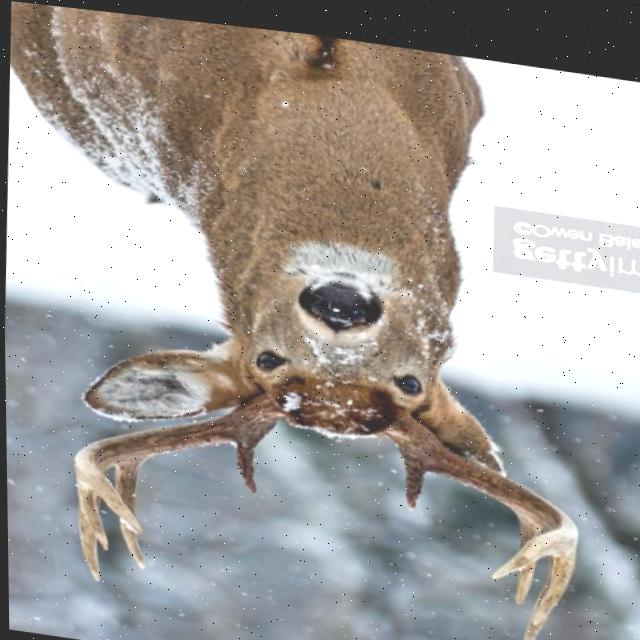L-F: (373, 405, 576, 568)
L-G1: (401, 451, 426, 502)
R-F: (71, 386, 294, 531)
R-G1: (232, 435, 257, 489)
